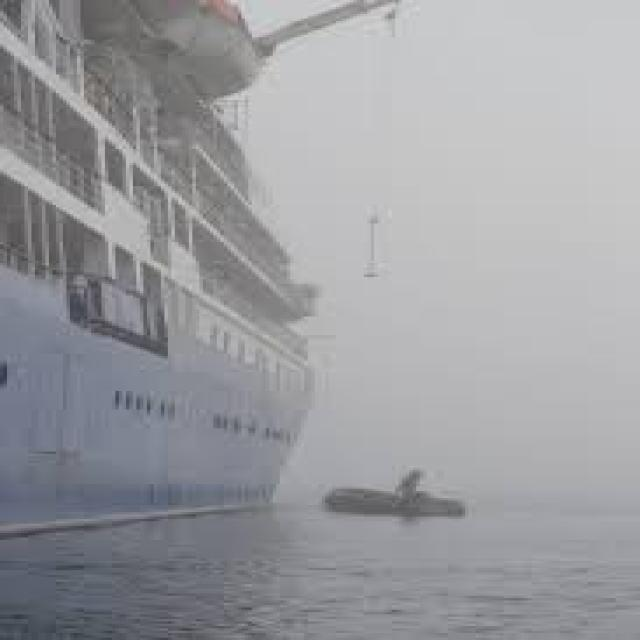passenger ship: (0, 3, 371, 522)
